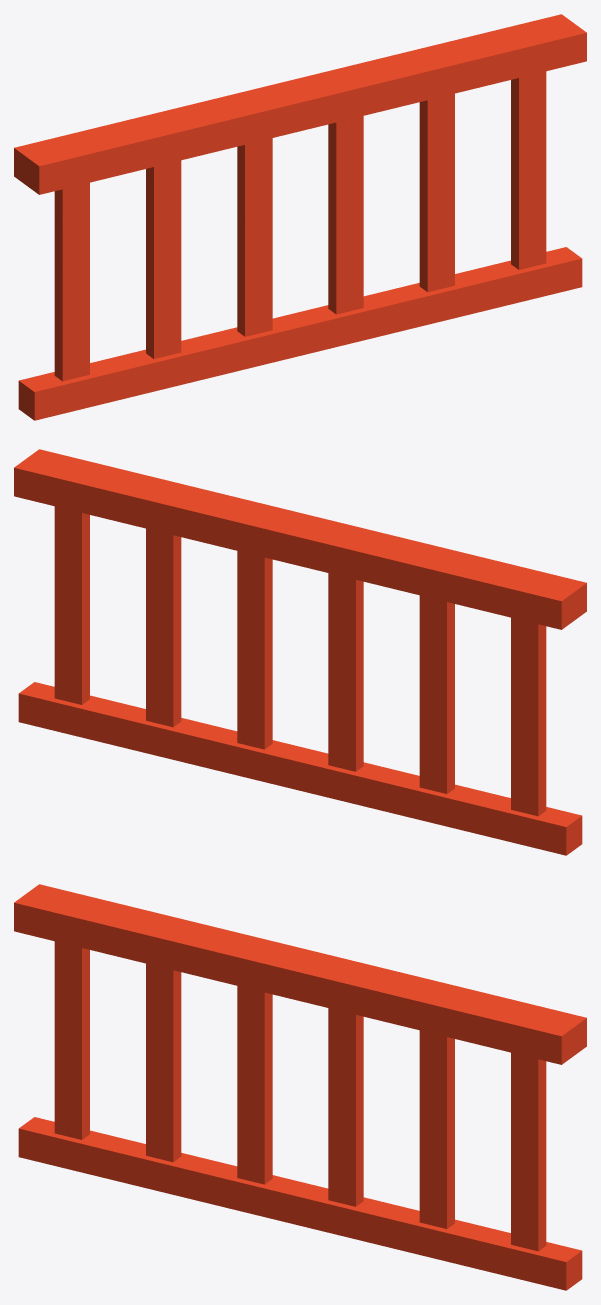
The model's file is SM_Railing_Wood_2m.fbx.
The picture shows the model from 3 angles, top to bottom: view 1: azimuth 30°, elevation 25°; view 2: azimuth 150°, elevation 25°; view 3: azimuth 330°, elevation 25°; orthographic projection.
Parts seen in each view (by area): view 1: railing-wood-2m; view 2: railing-wood-2m; view 3: railing-wood-2m.
Boxes of the visible parts, <box> form: railing-wood-2m: <box>14,14,586,420</box>; railing-wood-2m: <box>14,449,586,855</box>; railing-wood-2m: <box>14,884,586,1290</box>.
Size of the model in its own units: 2 by 0.9 by 0.16.
